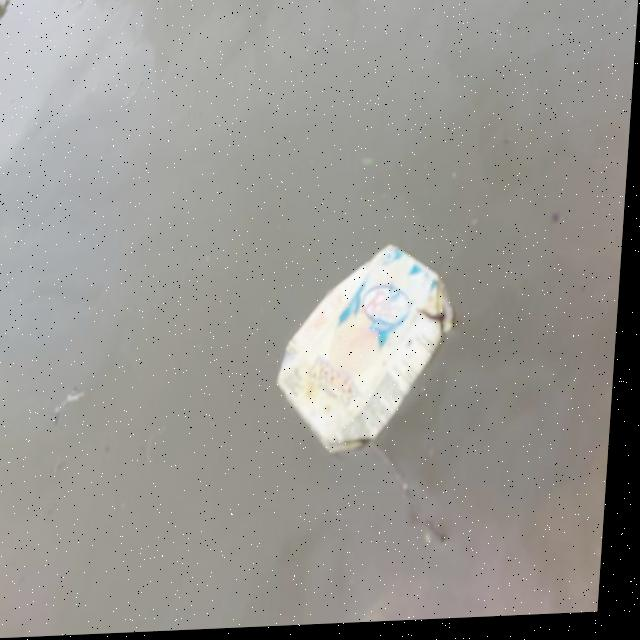paper: (261, 239, 481, 461)
